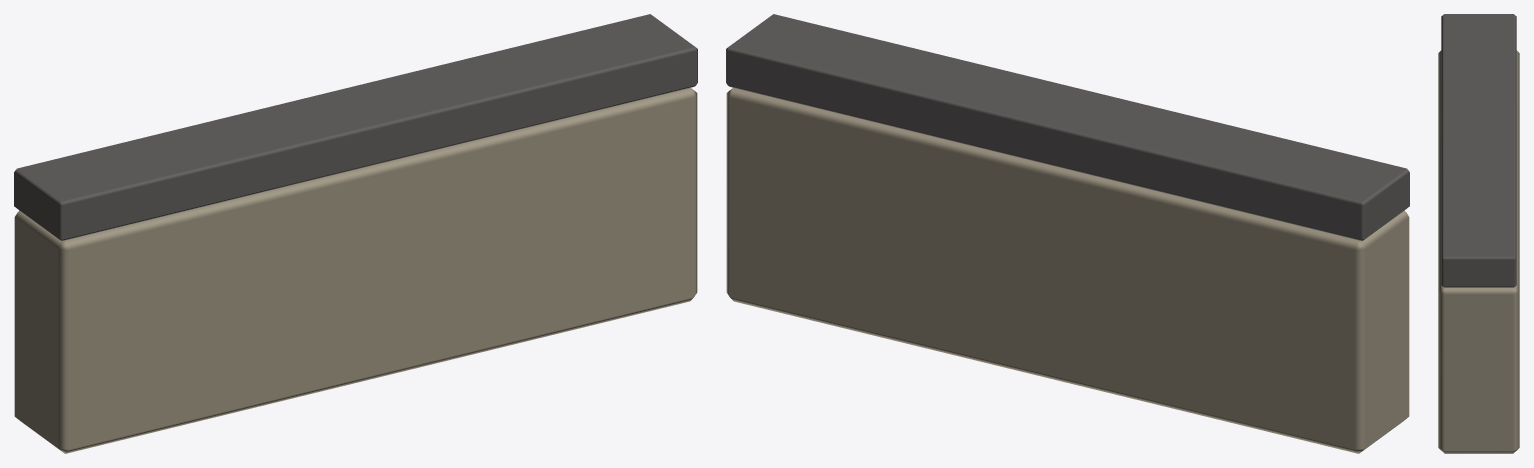
Rendered from stone-halls-plinth.6ecd3fe0.glb.
3 renders of one model, left to right at view 1: azimuth 30°, elevation 25°; view 2: azimuth 150°, elevation 25°; view 3: azimuth 270°, elevation 25°, orthographic. The views are drawn at different scales.
Parts seen in each view (by area): view 1: body; view 2: body; view 3: body.
Boxes of the visible parts, <box> form: body: <box>14,14,697,453</box>; body: <box>726,14,1409,453</box>; body: <box>1438,14,1519,453</box>.
Bounding box in the file's own units: 1 × 0.38 × 0.14.
